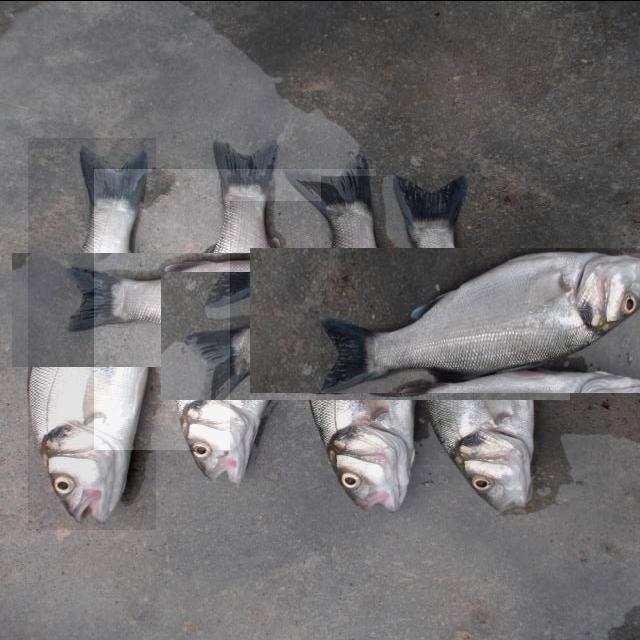Healthy Fish: (321, 175, 610, 464), (94, 168, 376, 449), (230, 200, 500, 469), (28, 137, 156, 529)
